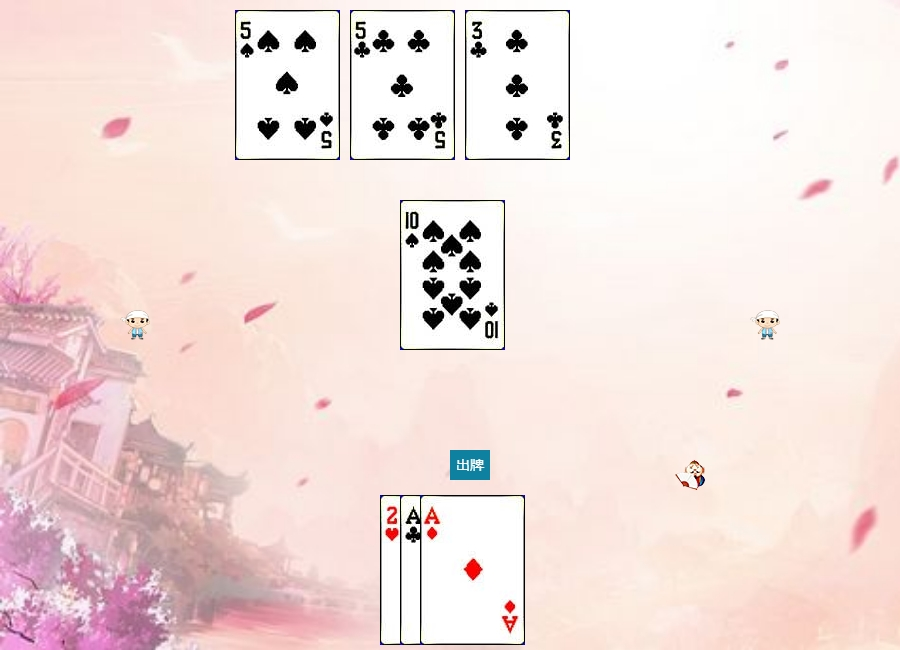10~4: (400, 200, 505, 350)
14~1: (420, 495, 525, 645)
14~2: (400, 495, 505, 645)
15~3: (380, 495, 485, 645)
3~2: (465, 10, 570, 160)
5~2: (350, 10, 455, 160)
5~4: (235, 10, 340, 160)
